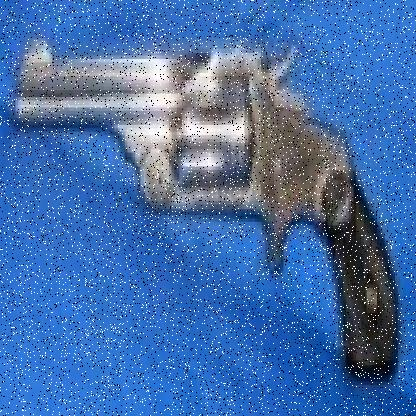pistol: (13, 31, 395, 388)
